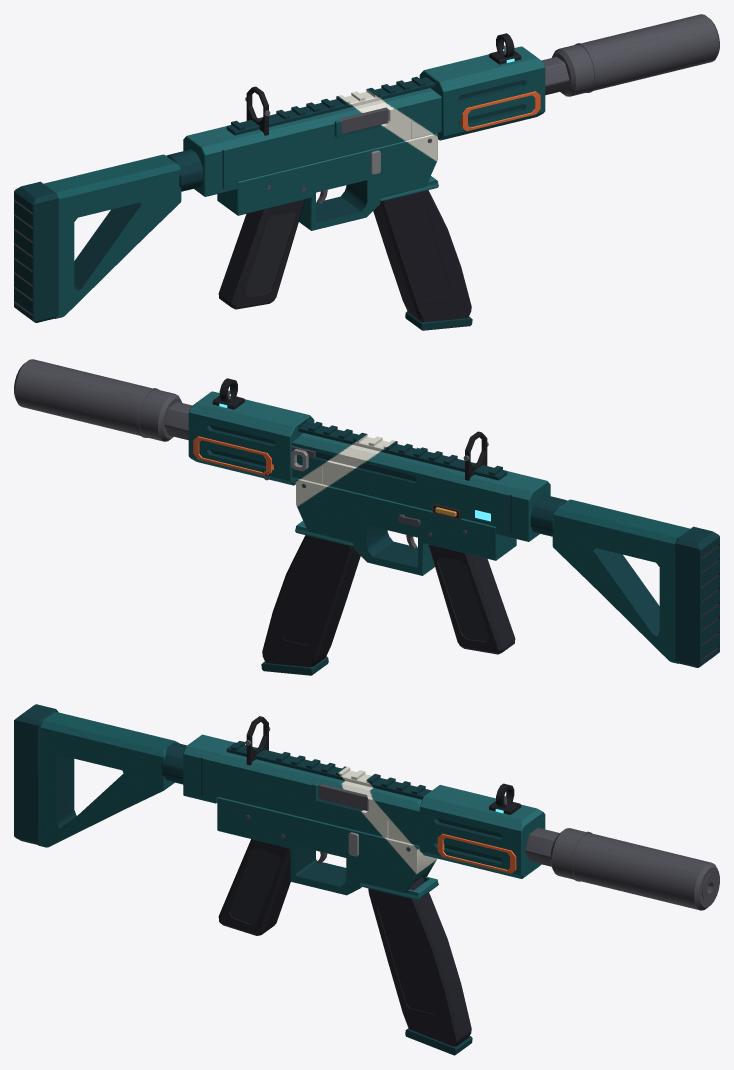
Rendered from Spectre_Breakwater_v01.fbx.
3 renders of one model, top to bottom at view 1: azimuth 30°, elevation 25°; view 2: azimuth 150°, elevation 25°; view 3: azimuth 330°, elevation 25°, orthographic.
Parts seen in each view (by area): view 1: Spectre_Receiver, Spectre_Stock, Spectre_Mag, Spectre_Suppressor, Spectre_Handguard, Spectre_Grip, Spectre_Sights, Spectre_Bolt, Breakwater_ForeBumper_R; view 2: Spectre_Receiver, Spectre_Stock, Spectre_Mag, Spectre_Suppressor, Spectre_Handguard, Spectre_Grip, Spectre_Sights, Breakwater_ForeBumper_L; view 3: Spectre_Receiver, Spectre_Stock, Spectre_Mag, Spectre_Suppressor, Spectre_Handguard, Spectre_Grip, Spectre_Sights, Spectre_Bolt, Breakwater_ForeBumper_R.
Part boxes in pixels (x1=…): Spectre_Receiver: x1=183, y1=74, x2=441, y2=230; Spectre_Stock: x1=14, y1=149, x2=203, y2=322; Spectre_Mag: x1=373, y1=190, x2=472, y2=330; Spectre_Suppressor: x1=541, y1=14, x2=719, y2=96; Spectre_Handguard: x1=419, y1=46, x2=545, y2=140; Spectre_Grip: x1=218, y1=199, x2=305, y2=309; Spectre_Sights: x1=245, y1=33, x2=521, y2=135; Spectre_Bolt: x1=340, y1=107, x2=388, y2=134; Breakwater_ForeBumper_R: x1=460, y1=91, x2=540, y2=131; Spectre_Receiver: x1=292, y1=419, x2=550, y2=575; Spectre_Stock: x1=530, y1=494, x2=719, y2=667; Spectre_Mag: x1=261, y1=535, x2=360, y2=675; Spectre_Suppressor: x1=14, y1=359, x2=192, y2=441; Spectre_Handguard: x1=188, y1=391, x2=314, y2=485; Spectre_Grip: x1=428, y1=544, x2=515, y2=654; Spectre_Sights: x1=212, y1=378, x2=488, y2=480; Breakwater_ForeBumper_L: x1=193, y1=436, x2=273, y2=475; Spectre_Receiver: x1=183, y1=734, x2=438, y2=900; Spectre_Stock: x1=14, y1=704, x2=186, y2=847; Spectre_Mag: x1=368, y1=877, x2=472, y2=1055; Spectre_Suppressor: x1=525, y1=827, x2=719, y2=910; Spectre_Handguard: x1=419, y1=785, x2=545, y2=878; Spectre_Grip: x1=218, y1=839, x2=290, y2=935; Spectre_Sights: x1=245, y1=716, x2=521, y2=814; Spectre_Bolt: x1=319, y1=784, x2=368, y2=810; Breakwater_ForeBumper_R: x1=437, y1=833, x2=516, y2=873.
Bounding box in the file's own units: 297 × 116 × 19.71.
Materials: 14 (11 with a texture image).
